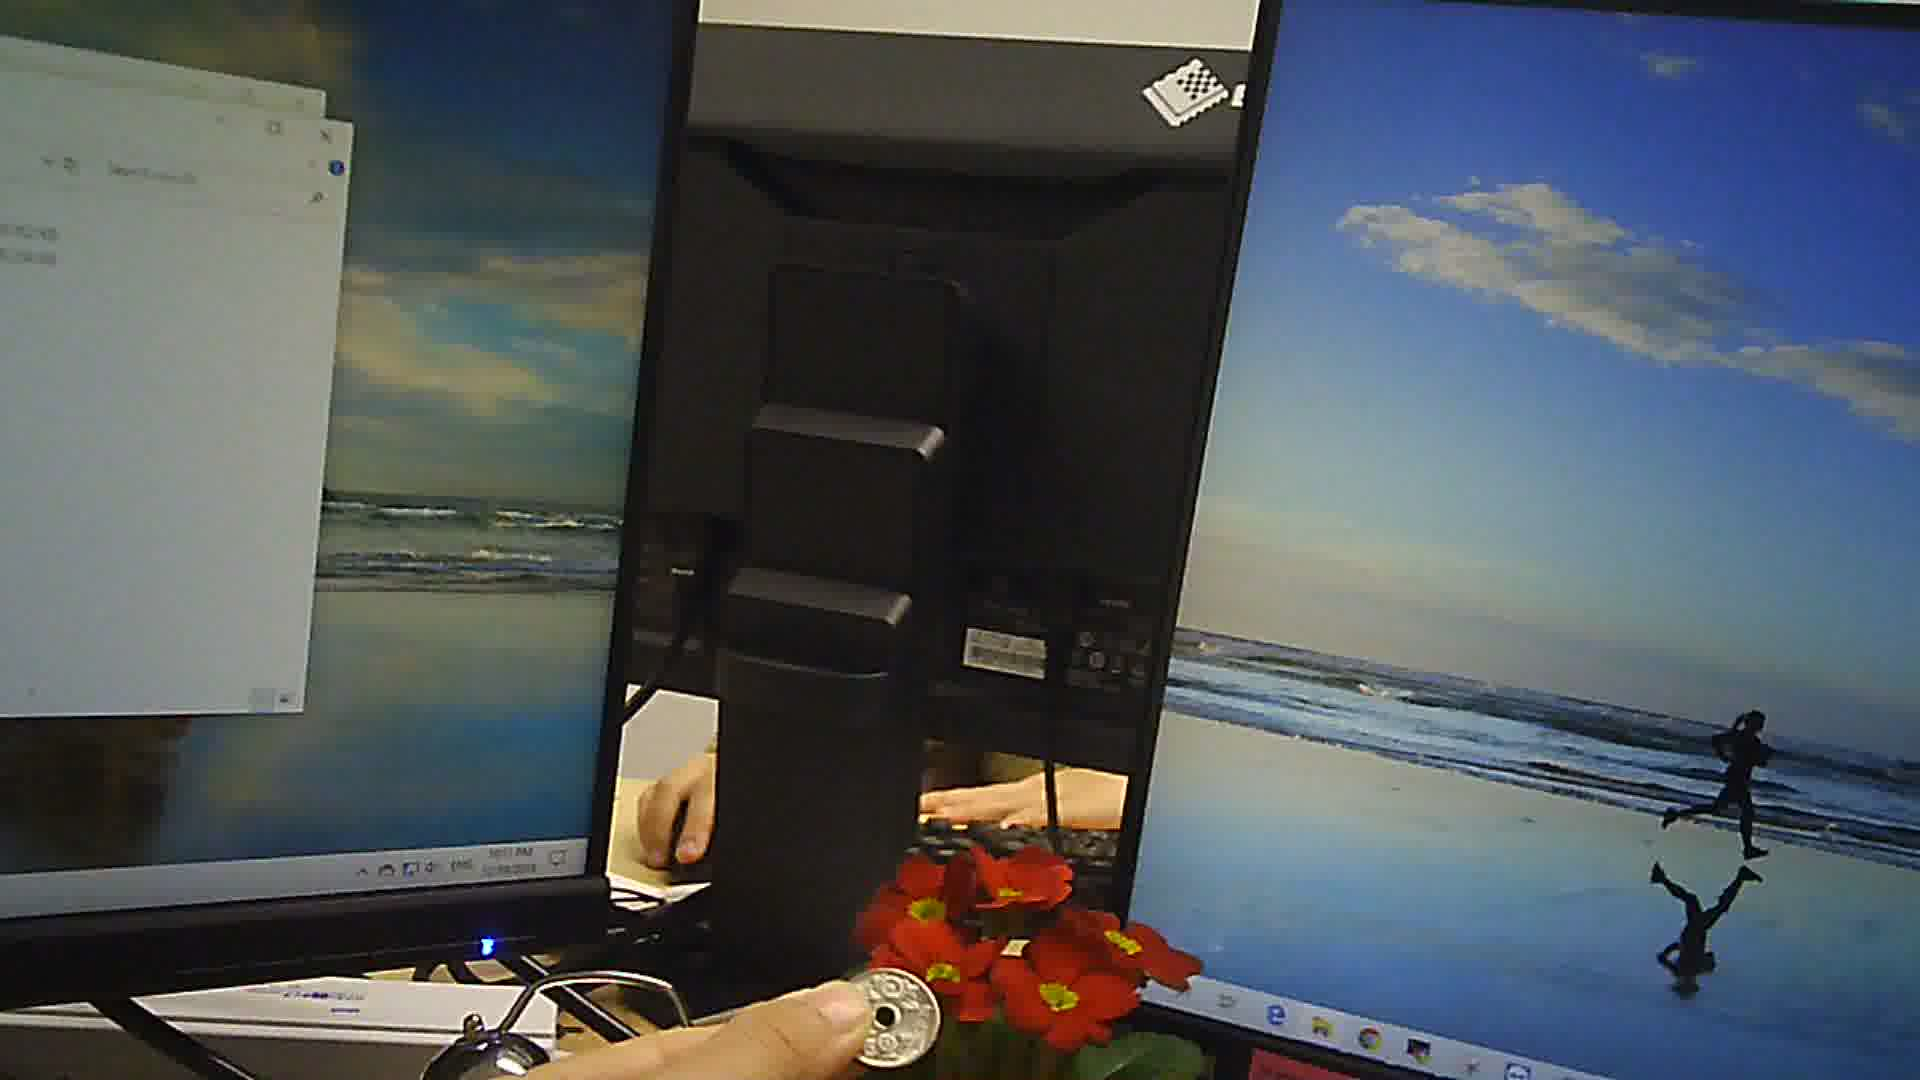50 Yen: (832, 957, 948, 1065)
